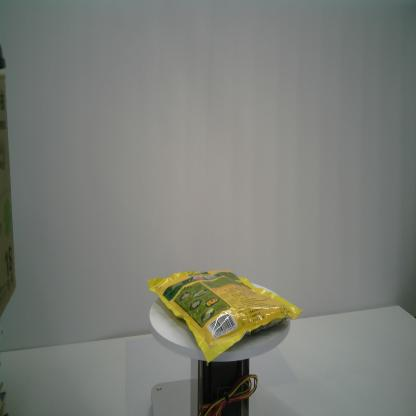Seasoner: (146, 267, 306, 367)
